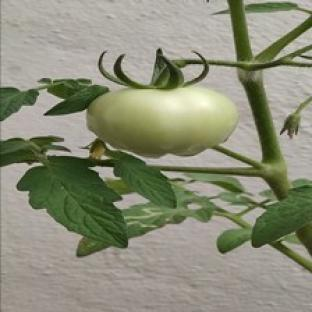Tomato: (87, 87, 238, 157)
